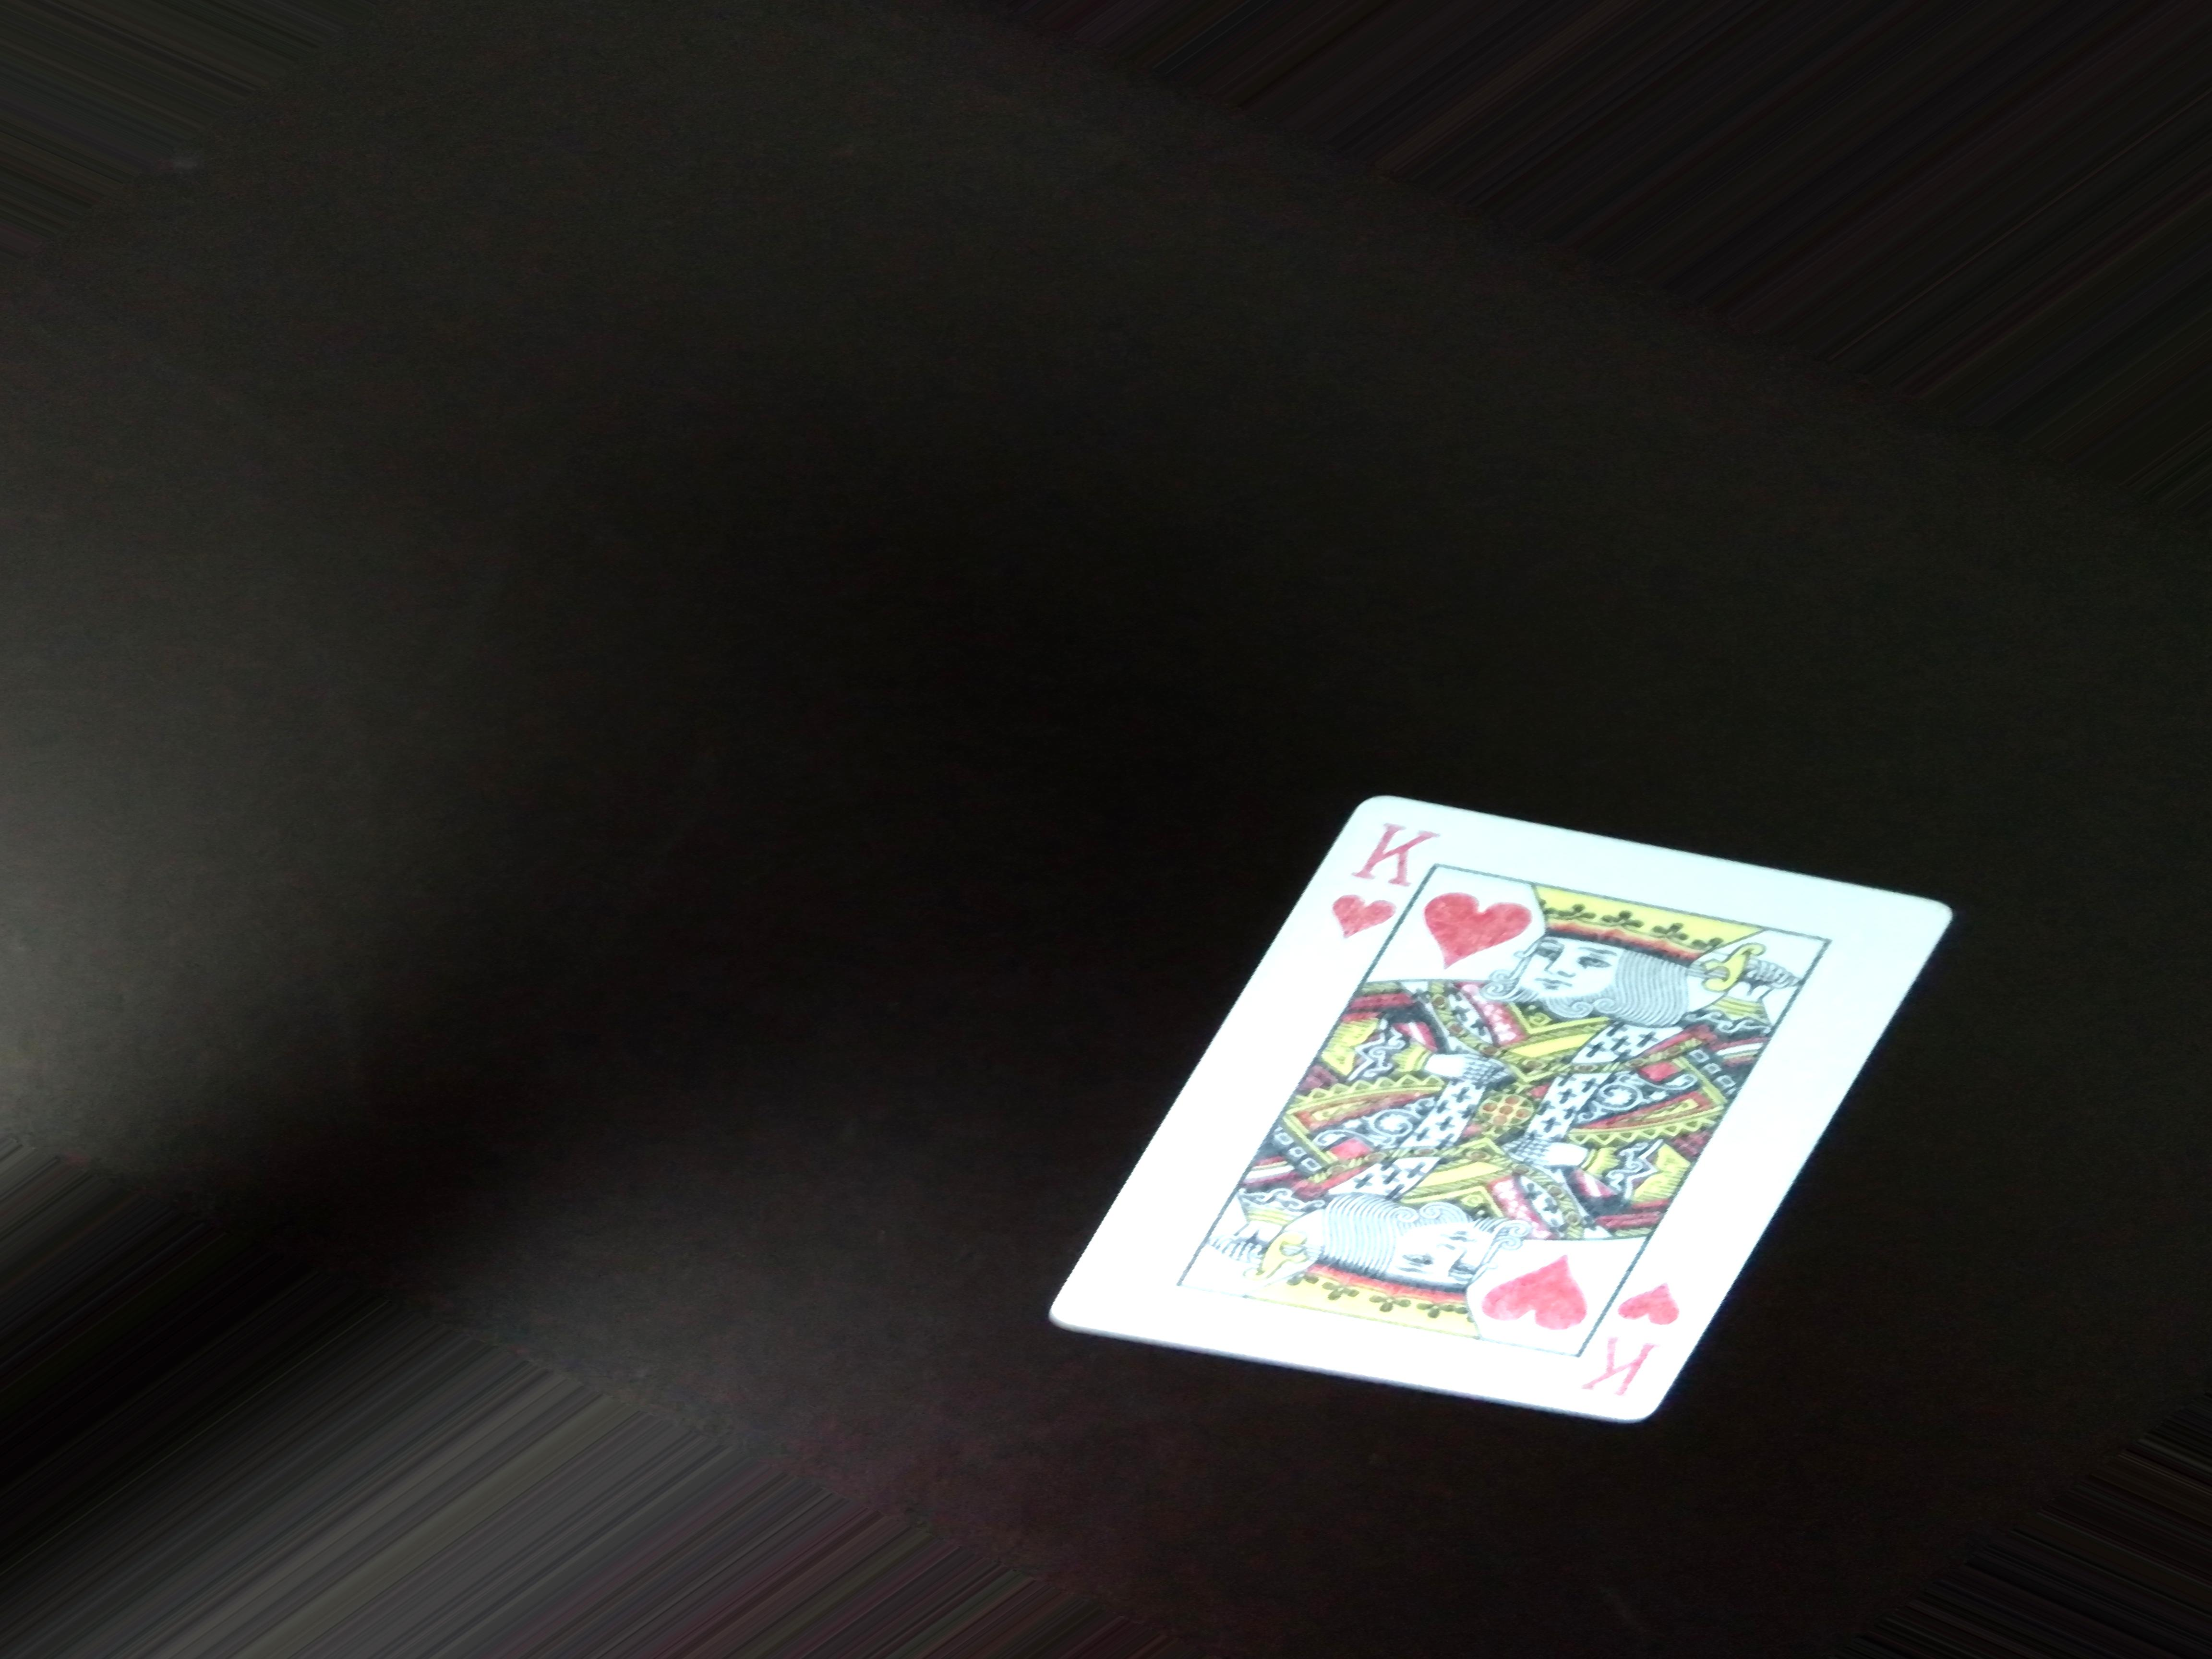KH: (1324, 809, 1437, 941)
